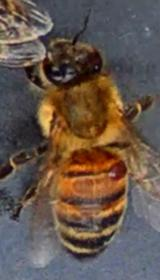varroa_mite: (95, 152, 136, 186)
